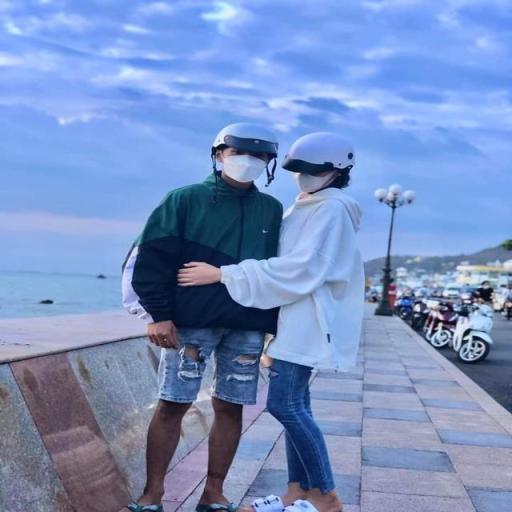with helmet: (279, 128, 358, 174), (208, 116, 283, 156)
